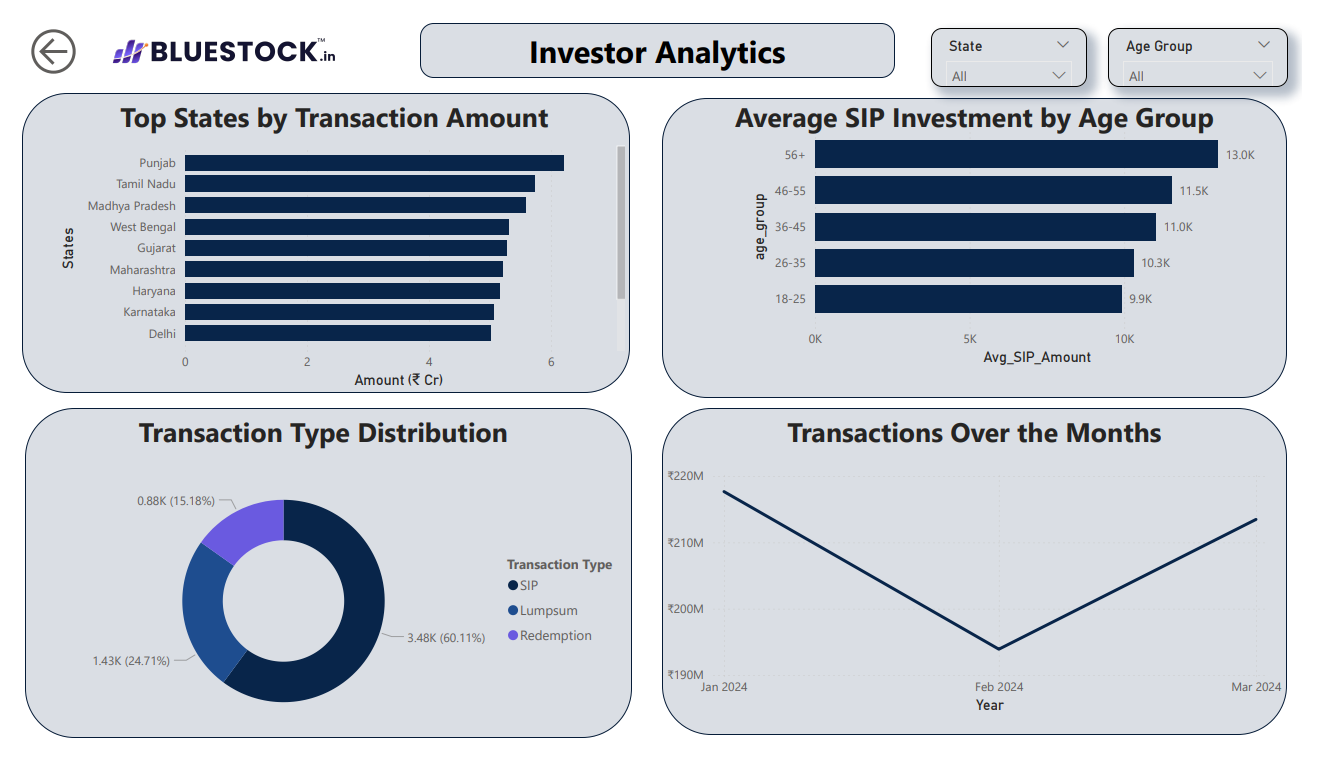

What the dashboard file says about the page in this screenshot:
{"tool":"powerbi","page":{"name":"Page 3 Investor Analytics ","canvas":[1280,720],"ordinal":2},"visuals":[{"type":"shape","box":[640,77.5,625,300],"z":0},{"type":"shape","box":[0,72.5,607.5,300],"z":1000},{"type":"shape","box":[2.5,387.5,607.5,330],"z":2000},{"type":"shape","box":[640,387.5,625,327.5],"z":3000},{"type":"barChart","title":"Transaction amount by state","fields":{"Category":["clean_transactions.state"],"Y":["01_fund_master.Amount (₹ Cr)"]},"box":[32.5,112.5,575,260],"z":4000},{"type":"donutChart","fields":{"Category":["clean_transactions.transaction_type"],"Y":["CountNonNull(clean_transactions.transaction_type)"]},"box":[33.3,441.7,576.7,278.3],"z":5000},{"type":"barChart","fields":{"Category":["clean_transactions.age_group"],"Y":["clean_transactions.Avg_SIP_Amount"]},"box":[724.3,92.9,528.6,257.1],"z":6000},{"type":"lineChart","fields":{"Category":["clean_transactions.transaction_date.Variation.Date Hierarchy.Year","clean_transactions.transaction_date.Variation.Date Hierarchy.Quarter","clean_transactions.transaction_date.Variation.Date Hierarchy.Month","clean_transactions.transaction_date.Variation.Date Hierarchy.Day"],"Y":["Sum(clean_transactions.amount_inr)"]},"box":[640,441.7,625,256.7],"z":7000},{"type":"actionButton","box":[2.5,2.5,75,57.5],"z":8000},{"type":"image","box":[85,0,235,60],"z":9000},{"type":"textbox","box":[40,72.5,545,57.5],"z":10000},{"type":"textbox","box":[640,72.5,625,325],"z":11000},{"type":"textbox","box":[40,387.5,522.5,55],"z":12000},{"type":"textbox","box":[640,387.5,625,55],"z":13000},{"type":"shape","box":[397.5,2.5,475,55],"z":15000},{"type":"slicer","fields":{"Values":["clean_transactions.age_group"]},"box":[1085.6,8.1,180.3,58.7],"z":15001},{"type":"slicer","fields":{"Values":["clean_transactions.state"]},"box":[909.4,8.1,155.9,58.7],"z":15002}]}

Visuals, with their boxes in screenshot pixels (x1, y1, x2, y2), scaled from the page's 1280x720 canvas onto the 1322x759 screenshot:
shape: crop(661, 82, 1307, 398)
shape: crop(0, 76, 627, 393)
shape: crop(3, 408, 630, 756)
shape: crop(661, 408, 1307, 754)
"Transaction amount by state" barChart: crop(34, 119, 627, 393)
donutChart - clean_transactions.transaction_type x CountNonNull(clean_transactions.transaction_type): crop(34, 466, 630, 758)
barChart - clean_transactions.age_group x clean_transactions.Avg_SIP_Amount: crop(748, 98, 1294, 369)
lineChart - clean_transactions.transaction_date.Variation.Date Hierarchy.Year x clean_transactions.transaction_date.Variation.Date Hierarchy.Quarter: crop(661, 466, 1307, 736)
actionButton: crop(3, 3, 80, 63)
image: crop(88, 0, 330, 63)
textbox: crop(41, 76, 604, 137)
textbox: crop(661, 76, 1307, 419)
textbox: crop(41, 408, 581, 466)
textbox: crop(661, 408, 1307, 466)
shape: crop(411, 3, 901, 61)
slicer - clean_transactions.age_group: crop(1121, 9, 1307, 70)
slicer - clean_transactions.state: crop(939, 9, 1100, 70)
